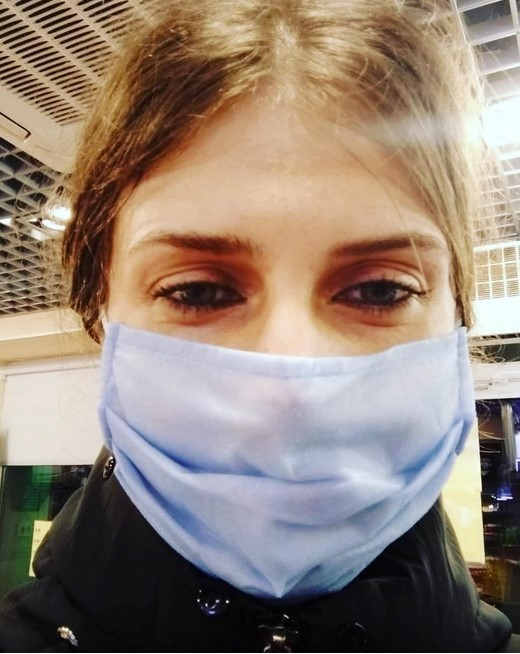face_with_mask: (79, 25, 496, 608)
